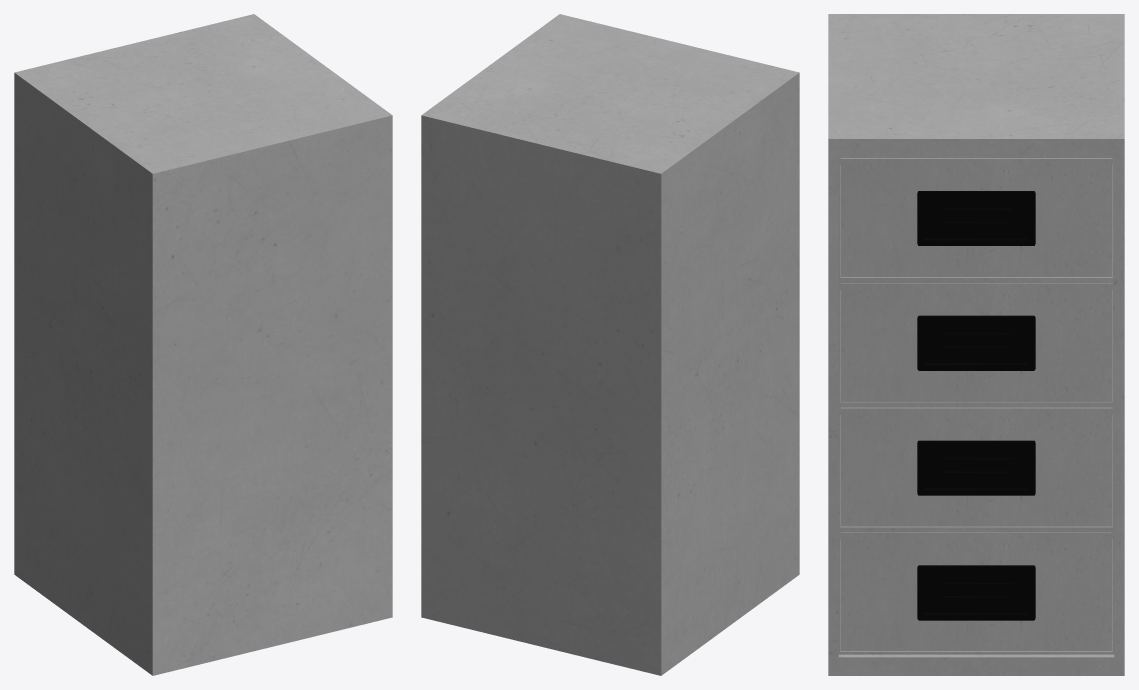
Rendered from white_filing_cabinet.glb.
The picture shows the model from 3 angles, left to right: view 1: azimuth 30°, elevation 25°; view 2: azimuth 150°, elevation 25°; view 3: azimuth 270°, elevation 25°; orthographic projection. The views are drawn at different scales.
Parts seen in each view (by area): view 1: white_filing_cabinet; view 2: white_filing_cabinet; view 3: white_filing_cabinet, drawer_2, drawer_1, drawer_3, drawer_4.
Part boxes in pixels (<box>): white_filing_cabinet: <box>14,14,392,675</box>; white_filing_cabinet: <box>421,14,799,675</box>; white_filing_cabinet: <box>828,14,1124,675</box>; drawer_2: <box>840,407,1112,526</box>; drawer_1: <box>840,532,1112,651</box>; drawer_3: <box>840,283,1112,401</box>; drawer_4: <box>840,158,1112,276</box>.
Size of the model in its own units: 0.5 by 1 by 0.5.
2 materials, 2 textured.
